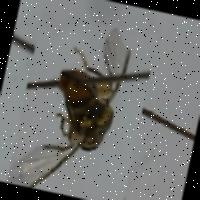Oriental-fruit-fly: (5, 8, 157, 200)
